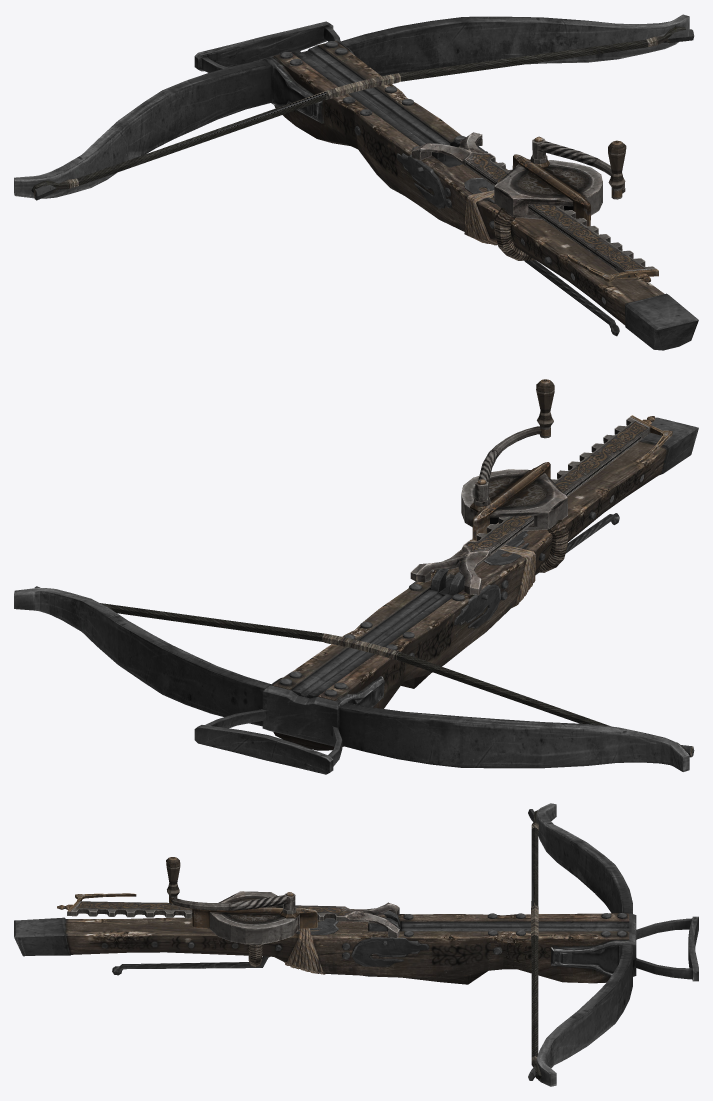
The model's file is cranequinXBOW.obj.
3 renders of one model, top to bottom at view 1: azimuth 30°, elevation 25°; view 2: azimuth 150°, elevation 25°; view 3: azimuth 270°, elevation 25°, orthographic. The views are drawn at different scales.
Size of the model in its own units: 46.75 by 11 by 49.9.
